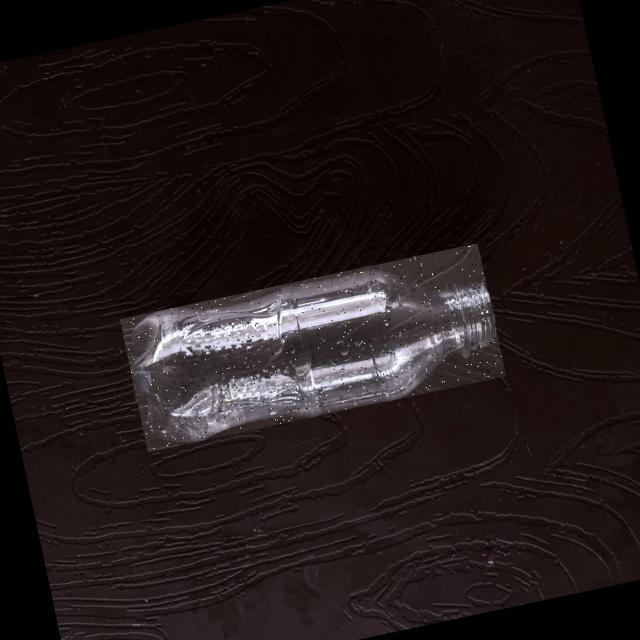PET_With_Liquid: (130, 270, 493, 440)
